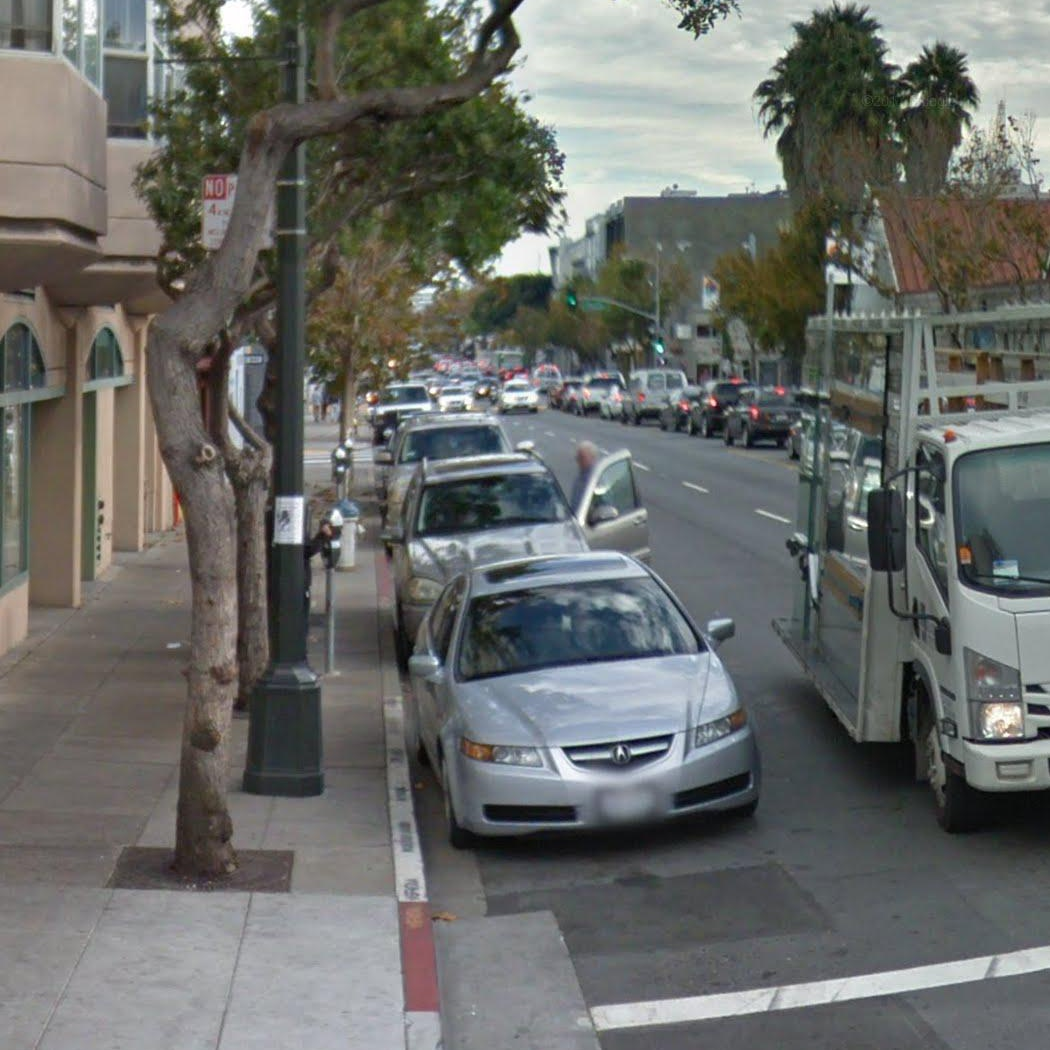No Parking: (199, 173, 277, 251)
